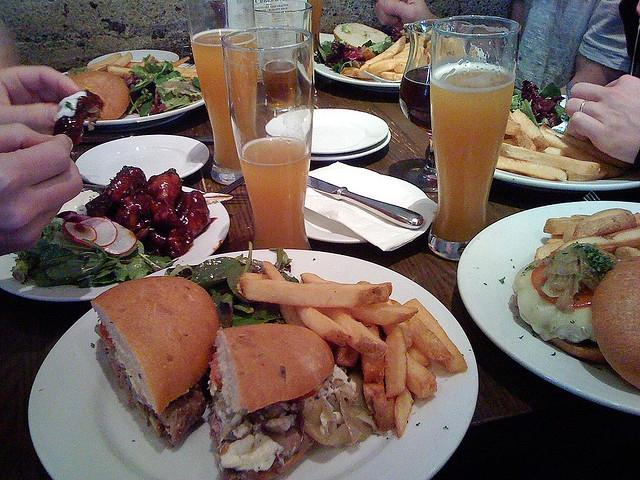tomato: (531, 264, 594, 310), (100, 321, 116, 349), (209, 353, 222, 387)
